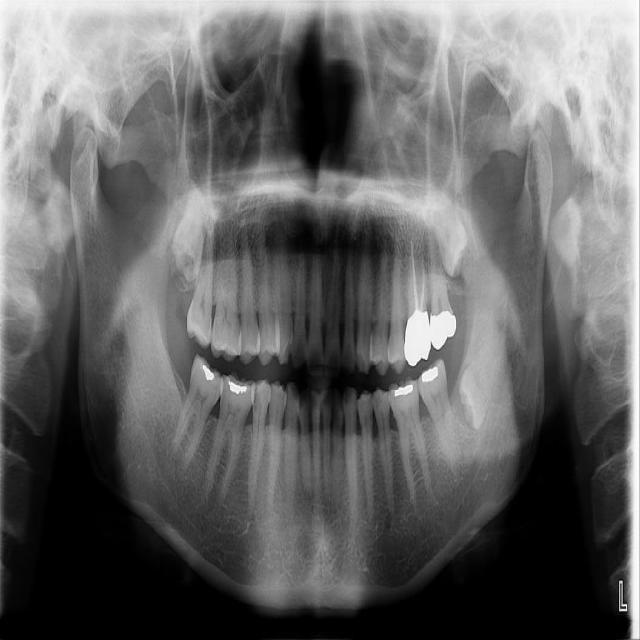Crown: (404, 310, 432, 367), (429, 306, 457, 351)
Filling: (419, 363, 443, 387), (198, 359, 221, 382), (226, 379, 250, 397), (389, 384, 416, 399)
Root Canal Treatment: (409, 239, 418, 305), (421, 242, 426, 304)
impacted tooth: (456, 320, 506, 431), (408, 192, 468, 276), (169, 179, 212, 280)
